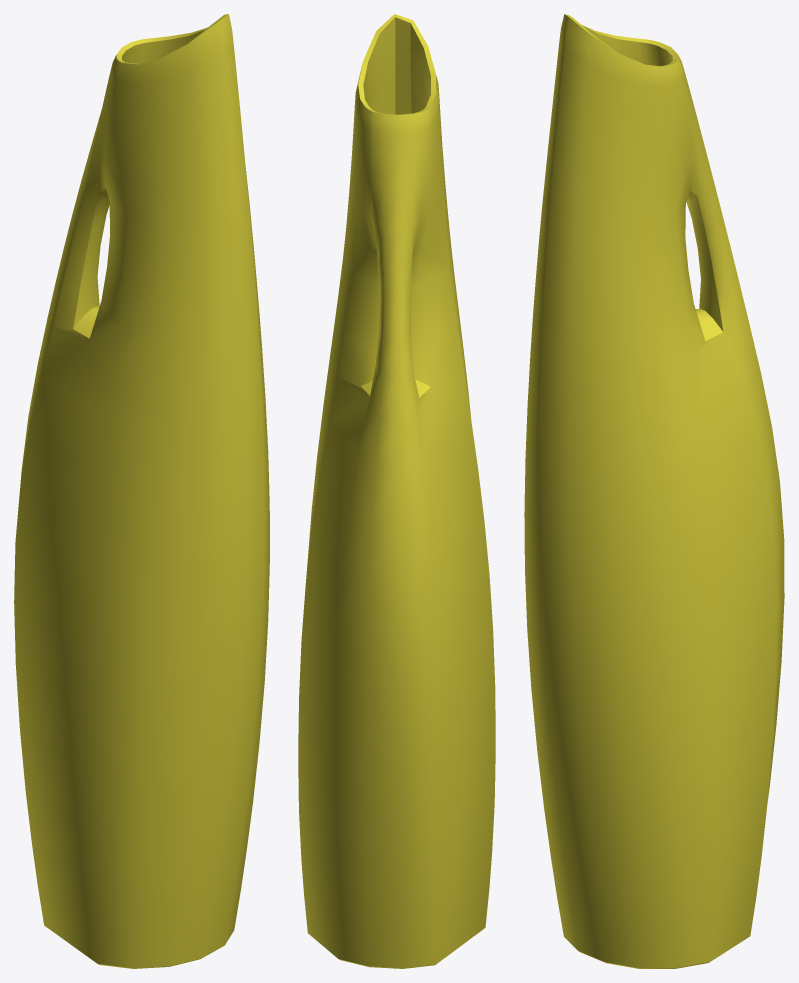
File: Yellow001.FBX
3 views of the same model, side by side, from view 1: azimuth 30°, elevation 25°; view 2: azimuth 150°, elevation 25°; view 3: azimuth 270°, elevation 25° (orthographic). The views are drawn at different scales.
Visible parts, largest first — view 1: Yellow001; view 2: Yellow001; view 3: Yellow001.
Boxes of the visible parts, bbox=[...] form: Yellow001: bbox=[14, 14, 269, 968]; Yellow001: bbox=[298, 14, 495, 968]; Yellow001: bbox=[524, 14, 784, 968].
Size of the model in its own units: 0.1638 by 0.8075 by 0.2035.
Materials: 1 (1 with a texture image).
